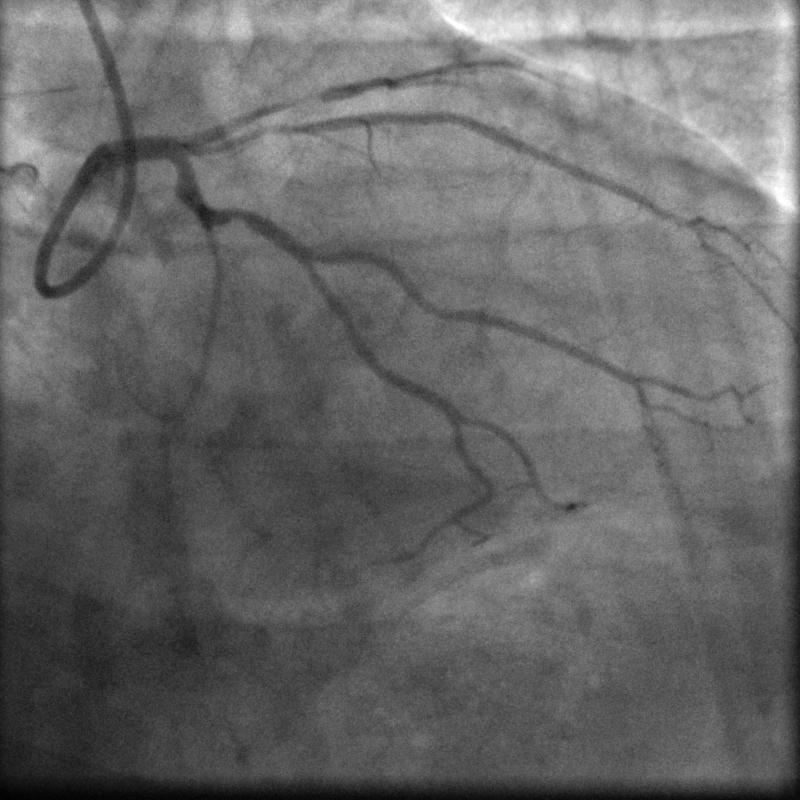Stenosis: (219, 204, 251, 228)
